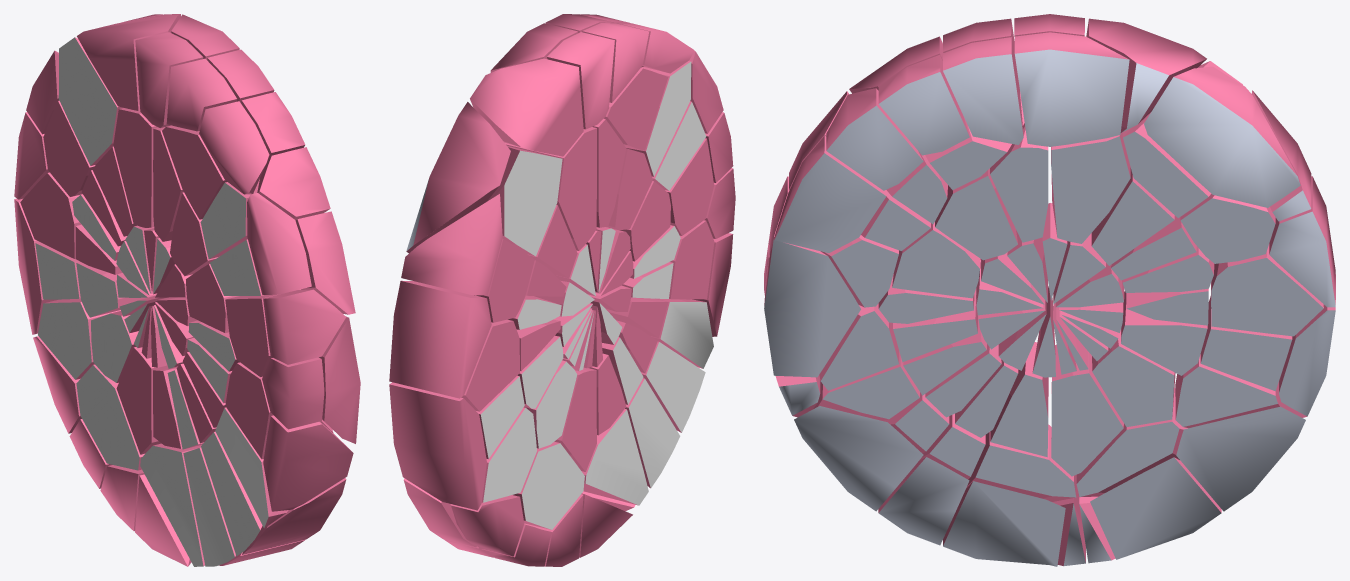
Rendered from target_cells.fbx.
The picture shows the model from 3 angles, left to right: view 1: azimuth 30°, elevation 25°; view 2: azimuth 150°, elevation 25°; view 3: azimuth 270°, elevation 25°; orthographic projection. The views are drawn at different scales.
Parts seen in each view (by area): view 1: targetA_cell.043, targetA_cell.058, targetA_cell.072, targetA_cell.066, targetA_cell.007, targetA_cell.001, targetA_cell.071, targetA_cell.037, targetA_cell.034, targetA_cell.056, targetA_cell.055, targetA_cell.023 (+53 smaller); view 2: targetA_cell.035, targetA_cell.065, targetA_cell.007, targetA_cell.016, targetA_cell.031, targetA_cell.058, targetA_cell.071, targetA_cell.037, targetA_cell.034, targetA_cell.040, targetA_cell.042, targetA_cell.053 (+49 smaller); view 3: targetA_cell.016, targetA_cell.050, targetA_cell.023, targetA_cell.019, targetA_cell.003, targetA_cell.027, targetA_cell.044, targetA_cell.002, targetA_cell.053, targetA_cell.034, targetA_cell.059, targetA_cell.055 (+55 smaller).
Boxes of the visible parts, x1,y1,x2,y2 form: targetA_cell.043: (263,415,353,511); targetA_cell.058: (58,37,123,165); targetA_cell.072: (247,193,311,294); targetA_cell.066: (263,289,346,364); targetA_cell.007: (77,14,180,110); targetA_cell.001: (199,101,269,194); targetA_cell.071: (76,364,144,470); targetA_cell.037: (140,443,204,566); targetA_cell.034: (113,108,157,227); targetA_cell.056: (262,357,324,429); targetA_cell.055: (257,147,330,220); targetA_cell.023: (319,316,360,443); targetA_cell.035: (389,280,491,398); targetA_cell.065: (389,382,486,510); targetA_cell.007: (470,58,583,156); targetA_cell.016: (406,102,510,253); targetA_cell.031: (401,194,502,295); targetA_cell.058: (487,146,562,256); targetA_cell.071: (513,441,584,529); targetA_cell.037: (581,409,648,505); targetA_cell.034: (505,127,596,250); targetA_cell.040: (547,32,614,129); targetA_cell.042: (481,407,536,502); targetA_cell.053: (461,319,519,411); targetA_cell.016: (1144,66,1300,207); targetA_cell.050: (1014,32,1129,146); targetA_cell.023: (764,239,860,377); targetA_cell.019: (1090,457,1221,559); targetA_cell.003: (1176,406,1305,511); targetA_cell.027: (943,481,1065,566); targetA_cell.044: (774,136,886,252); targetA_cell.002: (794,406,923,511); targetA_cell.053: (1211,244,1323,336); targetA_cell.034: (1051,132,1130,243); targetA_cell.059: (943,37,1023,144); targetA_cell.055: (826,88,923,190).
Size of the model in its own units: 5 by 34 by 33.99.
